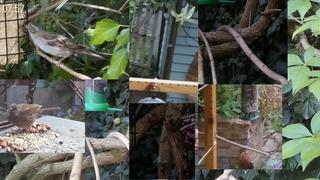dunnock: (7, 103, 61, 134)
sparrow: (24, 22, 105, 69)
